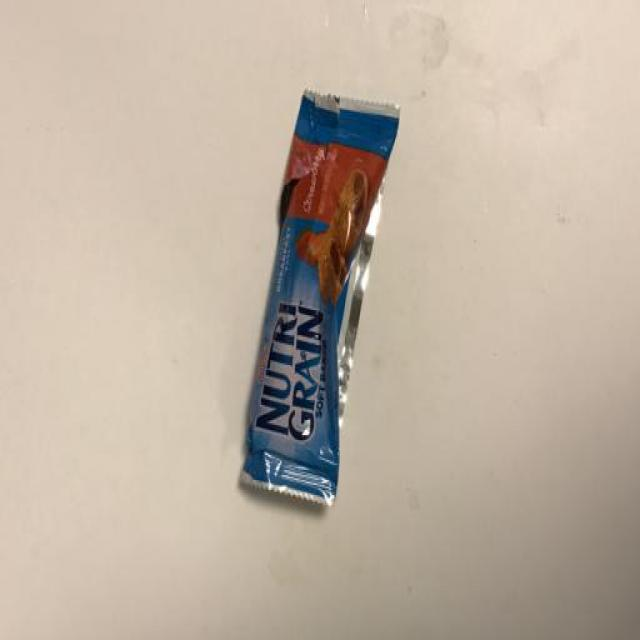plastic: (212, 62, 439, 516)
